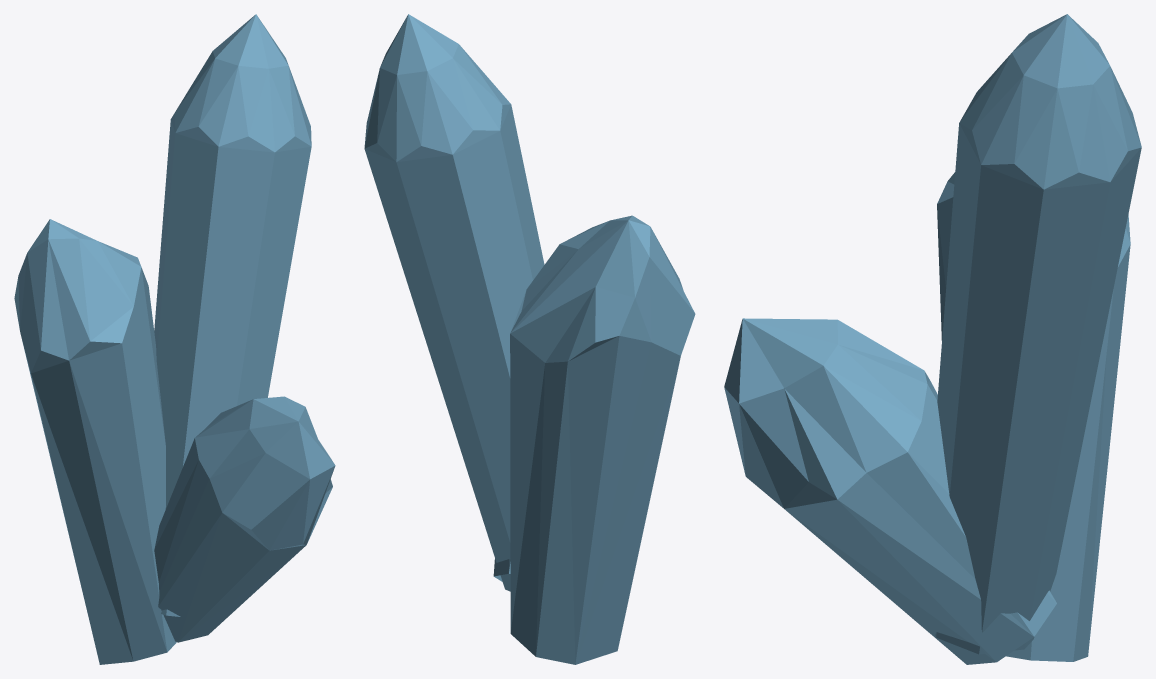
Rendered from crystalSmall-1.fbx.
The picture shows the model from 3 angles, left to right: view 1: azimuth 30°, elevation 25°; view 2: azimuth 150°, elevation 25°; view 3: azimuth 270°, elevation 25°; orthographic projection. The views are drawn at different scales.
Visible parts, largest first — view 1: SmallCrystal; view 2: SmallCrystal; view 3: SmallCrystal.
Boxes of the visible parts, x1,y1,x2,y2 form: SmallCrystal: (14,14,335,664); SmallCrystal: (364,14,695,664); SmallCrystal: (724,14,1141,664).
Bounding box in the file's own units: 1178 × 2311 × 1197.
